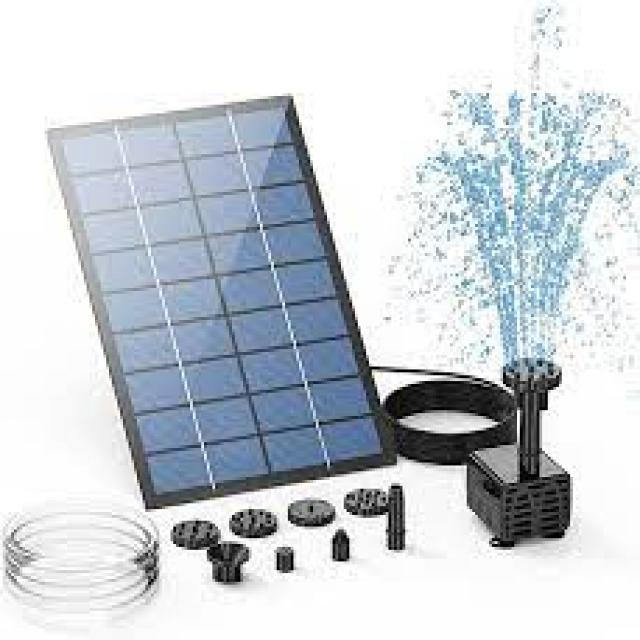no faulty: (65, 107, 379, 488)
